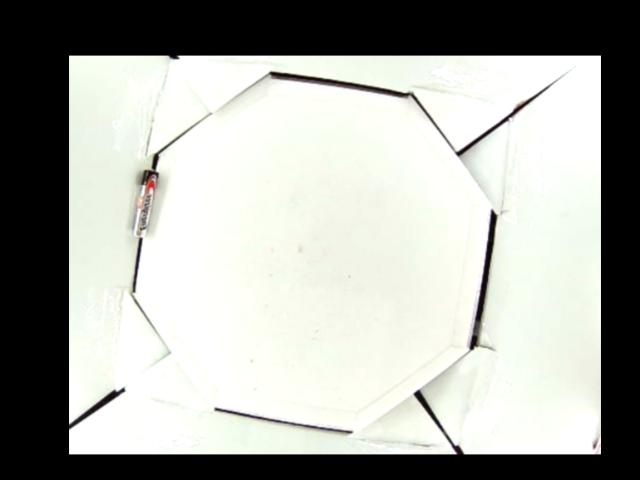Battery: (134, 169, 158, 240)
